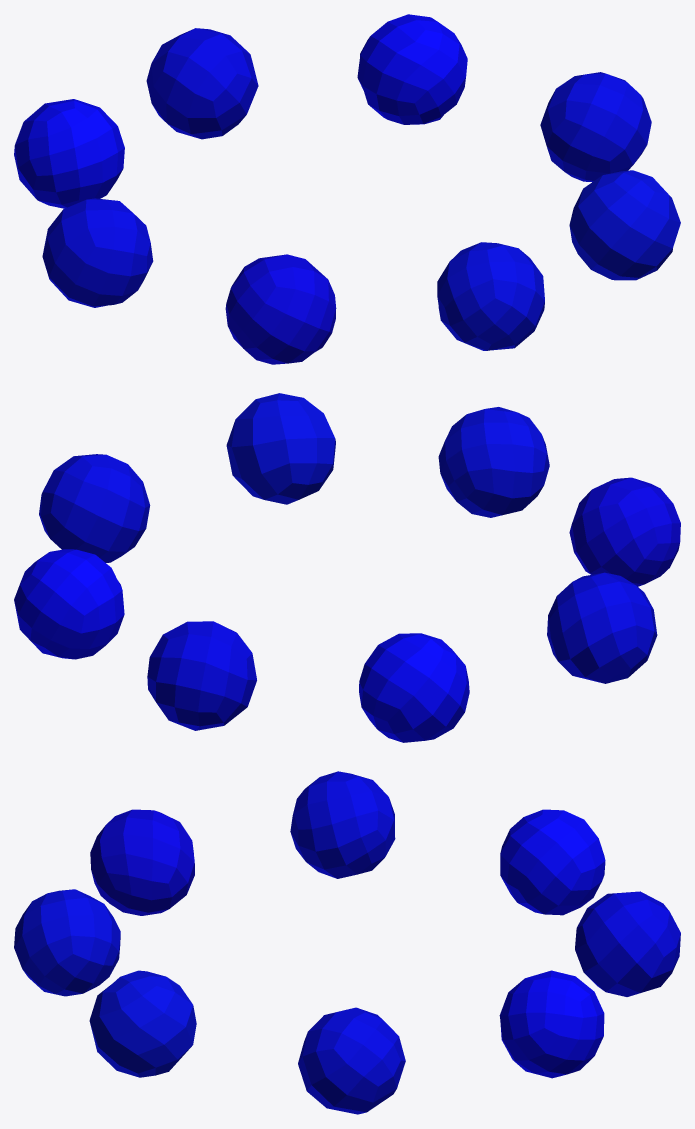
The model's file is Blue_spheres.fbx.
3 renders of one model, top to bottom at view 1: azimuth 30°, elevation 25°; view 2: azimuth 150°, elevation 25°; view 3: azimuth 270°, elevation 25°, orthographic. The views are drawn at different scales.
Parts seen in each view (by area): view 1: Esferas 55-70 faces; view 2: Esferas 55-70 faces; view 3: Esferas 55-70 faces.
Part boxes in pixels (box(x1,y1,x2,y2)): Esferas 55-70 faces: box(14, 14, 680, 364); Esferas 55-70 faces: box(14, 393, 680, 742); Esferas 55-70 faces: box(14, 771, 680, 1114).
Size of the model in its own units: 264 by 42.86 by 265.
